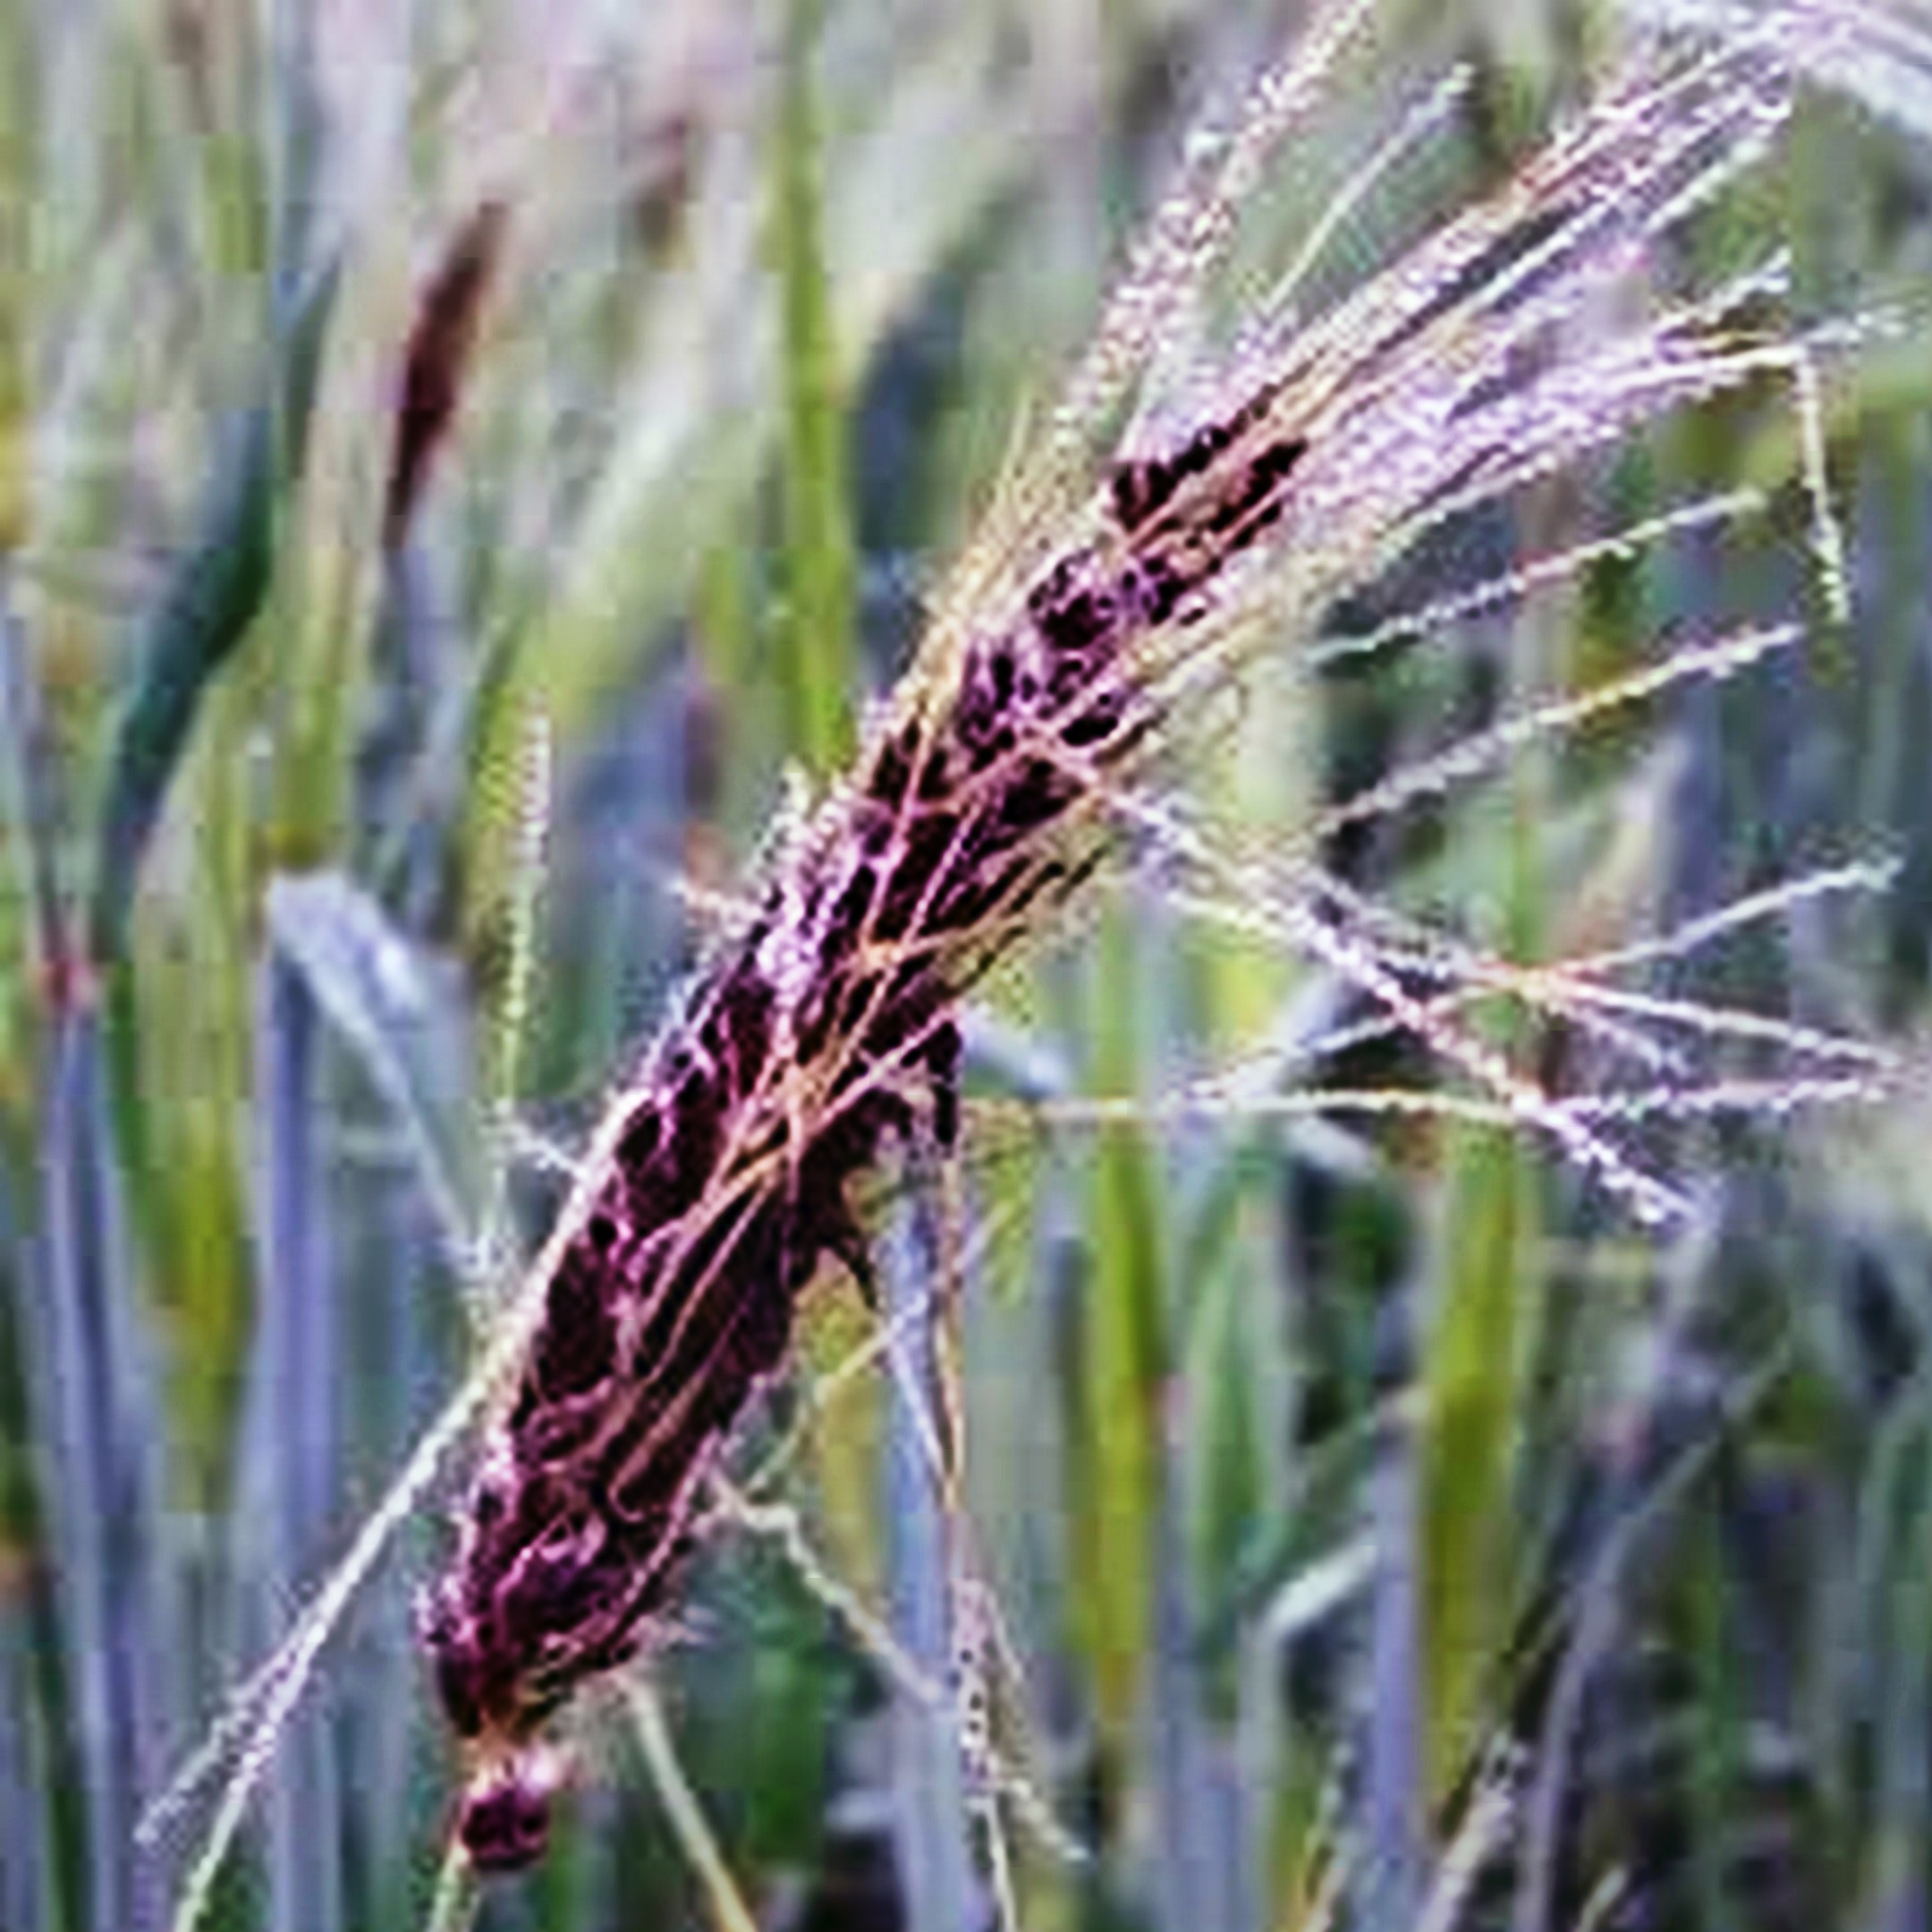Wheat Loose Smut: (439, 389, 1304, 1704)
